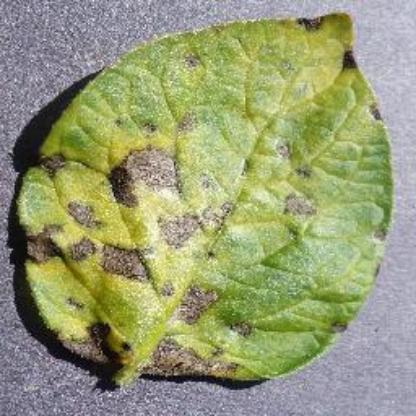Early-Blight: (14, 12, 402, 388)
